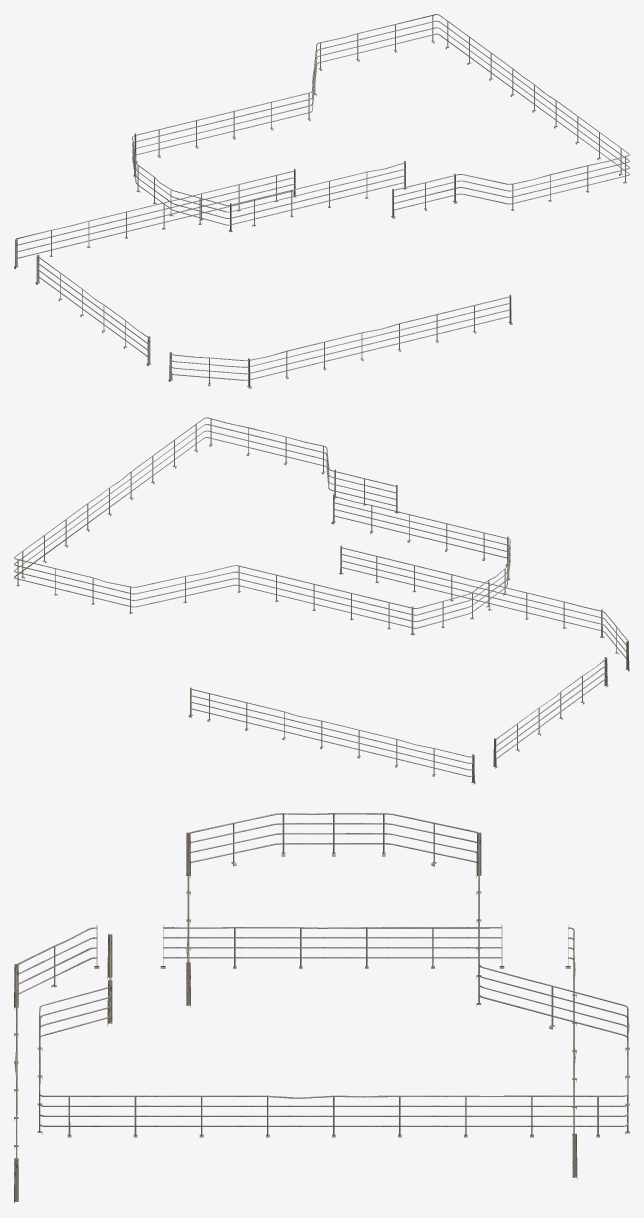
File: trawler_building_rails.glb
3 views of the same model, one above another, from view 1: azimuth 30°, elevation 25°; view 2: azimuth 150°, elevation 25°; view 3: azimuth 270°, elevation 25° (orthographic). The views are drawn at different scales.
Parts seen in each view (by area): view 1: trawler_building_rails_LOD0; view 2: trawler_building_rails_LOD0; view 3: trawler_building_rails_LOD0.
Boxes of the visible parts, left/top/right/bottom form: trawler_building_rails_LOD0: left=14, top=14, right=629, bottom=388; trawler_building_rails_LOD0: left=14, top=417, right=629, bottom=784; trawler_building_rails_LOD0: left=14, top=813, right=629, bottom=1203.
Size of the model in its own units: 17.74 by 5.11 by 13.98.
1 material, 1 textured.
